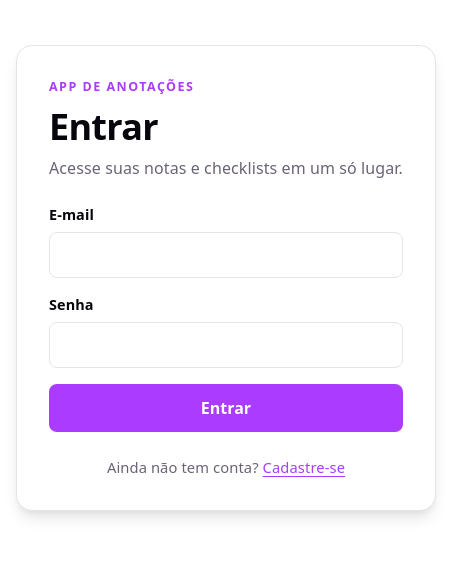
Test: autenticação › login inválido permanece em /login sem criar sessão
Type "usuario@exemplo.com" into the field labelled "E-mail" at (226, 255), box [49,232,403,278]
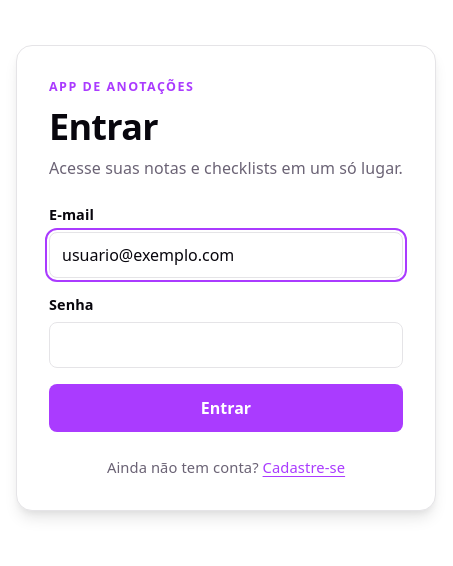
Type "senha-errada" into the password field labelled "Senha" at (226, 344), box [49,322,403,368]
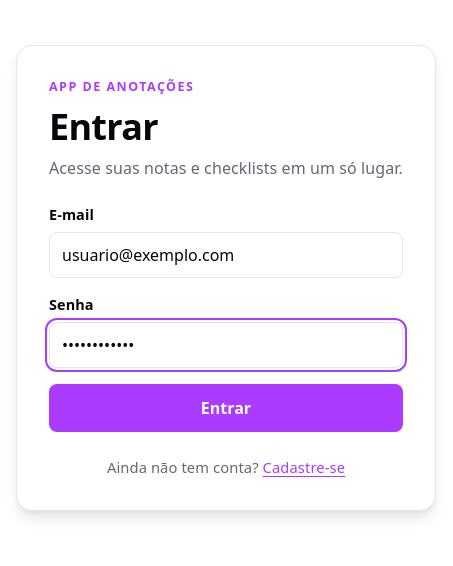
Click the button "Entrar" at (226, 408), box [49,384,403,432]
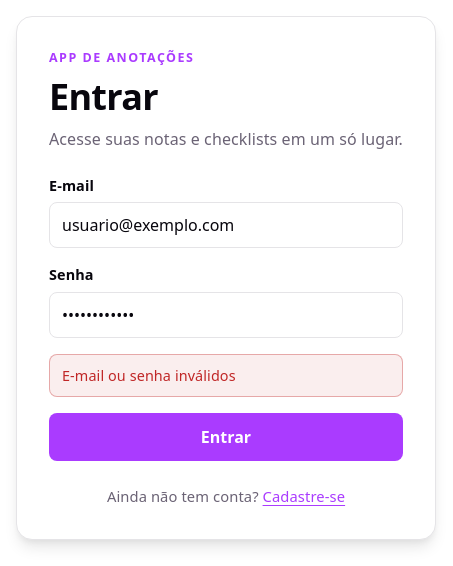
Expected: the heading "Entrar" is shown, [49,72,158,121]
Expected: the text "E-mail ou senha inválidos" is shown, [49,354,403,397]
